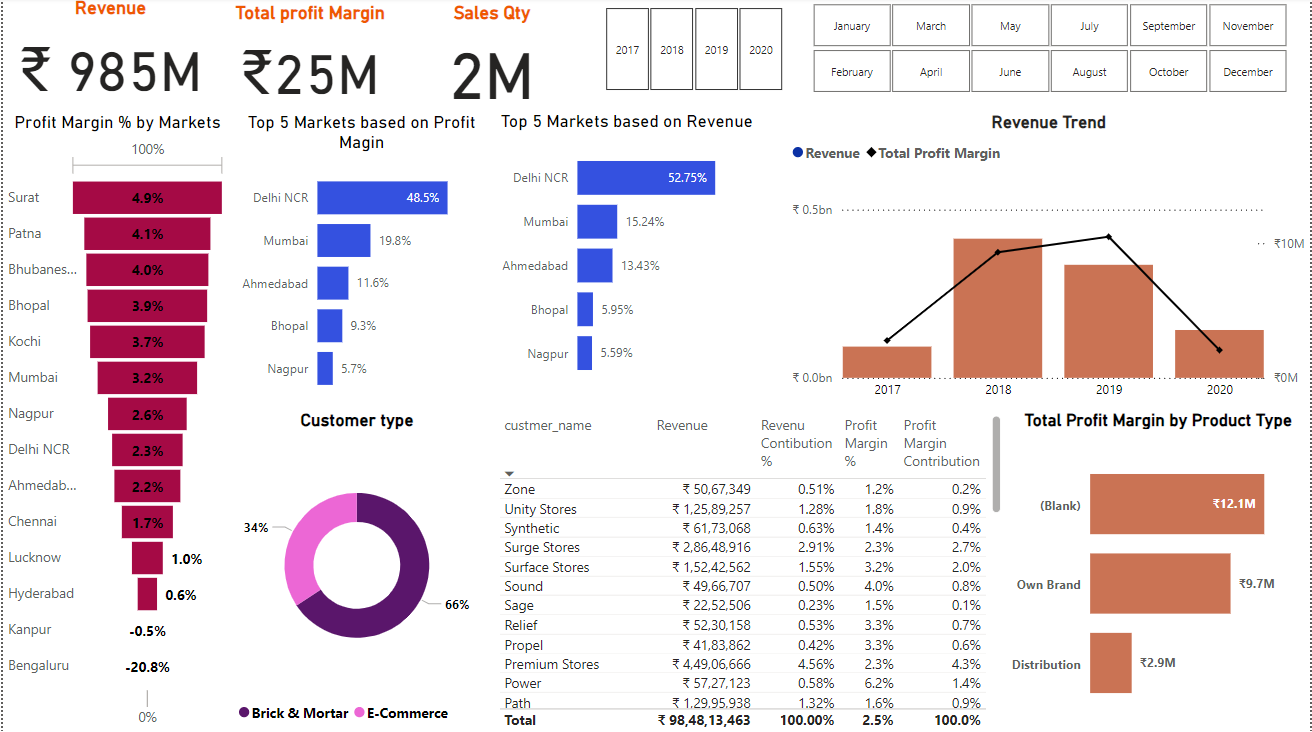

The page's visual inventory and layout, read from the dashboard file:
{"tool":"powerbi","page":{"name":"Updated Report","canvas":[1280,720],"ordinal":1},"visuals":[{"type":"card","title":"Revenue","fields":{"Values":["BaseMesure.Revenue"]},"box":[0,0,210.8,112.2],"z":0},{"type":"card","title":"Sales Qty","fields":{"Values":["BaseMesure.Sales Qty"]},"box":[391.3,4.5,174.4,107.7],"z":1000},{"type":"slicer","fields":{"Values":["sales date.year"]},"box":[565.7,5.7,220,90],"z":2000},{"type":"slicer","fields":{"Values":["sales date.date.Variation.Date Hierarchy.Month"]},"box":[767.1,0,512.9,100],"z":3000},{"type":"lineClusteredColumnComboChart","title":"Revenue Trend","fields":{"Y":["BaseMesure.Revenue"],"Y2":["BaseMesure.Total Profit Margin"],"Category":["sales date.cy_date.Variation.Date Hierarchy.Year","sales date.cy_date.Variation.Date Hierarchy.Month"]},"box":[767.1,112.9,512.9,290],"z":4000},{"type":"card","title":"Total profit Margin","fields":{"Values":["BaseMesure.Total Profit Margin"]},"box":[210.8,4.5,180.5,107.7],"z":5000},{"type":"funnel","title":"Profit Margin % by Markets","fields":{"Category":["sales markets.markets_name","sales markets.zone"],"Y":["BaseMesure.Profit Margin %"]},"box":[0,112.9,224.3,607.1],"z":6000},{"type":"barChart","title":"Top 5 Markets based on Profit Magin","fields":{"Category":["sales markets.markets_name","sales markets.zone"],"Y":["BaseMesure.Profit Margin Contribution"]},"box":[224.3,112.9,254.3,290],"z":7000},{"type":"barChart","title":"Top 5 Markets based on Revenue","fields":{"Category":["sales markets.markets_name","sales markets.zone"],"Y":["BaseMesure.Revenu Contibution %"]},"box":[478.6,111.4,264.3,277.1],"z":8000},{"type":"tableEx","fields":{"Values":["sales customers.custmer_name","BaseMesure.Revenue","BaseMesure.Revenu Contibution %","BaseMesure.Profit Margin %","BaseMesure.Profit Margin Contribution"]},"box":[479.2,404.9,502,315.5],"z":9000},{"type":"donutChart","title":"Customer type","fields":{"Category":["sales customers.customer_type"],"Y":["BaseMesure.Profit Margin Contribution"]},"box":[224.5,403.4,242.7,315.5],"z":10000},{"type":"clusteredBarChart","title":"Total Profit Margin by Product Type","fields":{"Category":["sales products.product_type"],"Y":["BaseMesure.Total Profit Margin"]},"box":[981.2,403.4,298.8,317],"z":11000}]}

Visuals, with their boxes in screenshot pixels (x1, y1, x2, y2), scaled from the page's 1280x720 canvas onto the 1312x732 screenshot:
"Revenue" card: pyautogui.locateOnScreen(0, 0, 216, 114)
"Sales Qty" card: pyautogui.locateOnScreen(401, 5, 580, 114)
slicer - sales date.year: pyautogui.locateOnScreen(580, 6, 805, 97)
slicer - sales date.date.Variation.Date Hierarchy.Month: pyautogui.locateOnScreen(786, 0, 1311, 102)
"Revenue Trend" lineClusteredColumnComboChart: pyautogui.locateOnScreen(786, 115, 1311, 410)
"Total profit Margin" card: pyautogui.locateOnScreen(216, 5, 401, 114)
"Profit Margin % by Markets" funnel: pyautogui.locateOnScreen(0, 115, 230, 731)
"Top 5 Markets based on Profit Magin" barChart: pyautogui.locateOnScreen(230, 115, 491, 410)
"Top 5 Markets based on Revenue" barChart: pyautogui.locateOnScreen(491, 113, 761, 395)
tableEx - sales customers.custmer_name x BaseMesure.Revenue: pyautogui.locateOnScreen(491, 412, 1006, 731)
"Customer type" donutChart: pyautogui.locateOnScreen(230, 410, 479, 731)
"Total Profit Margin by Product Type" clusteredBarChart: pyautogui.locateOnScreen(1006, 410, 1311, 731)
